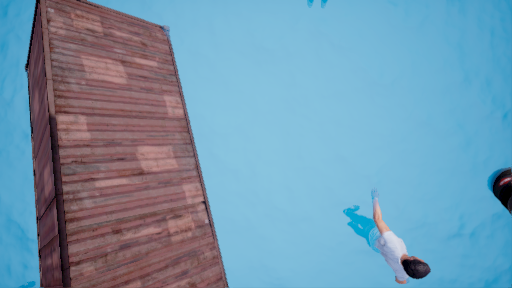person: (335, 187, 437, 282)
